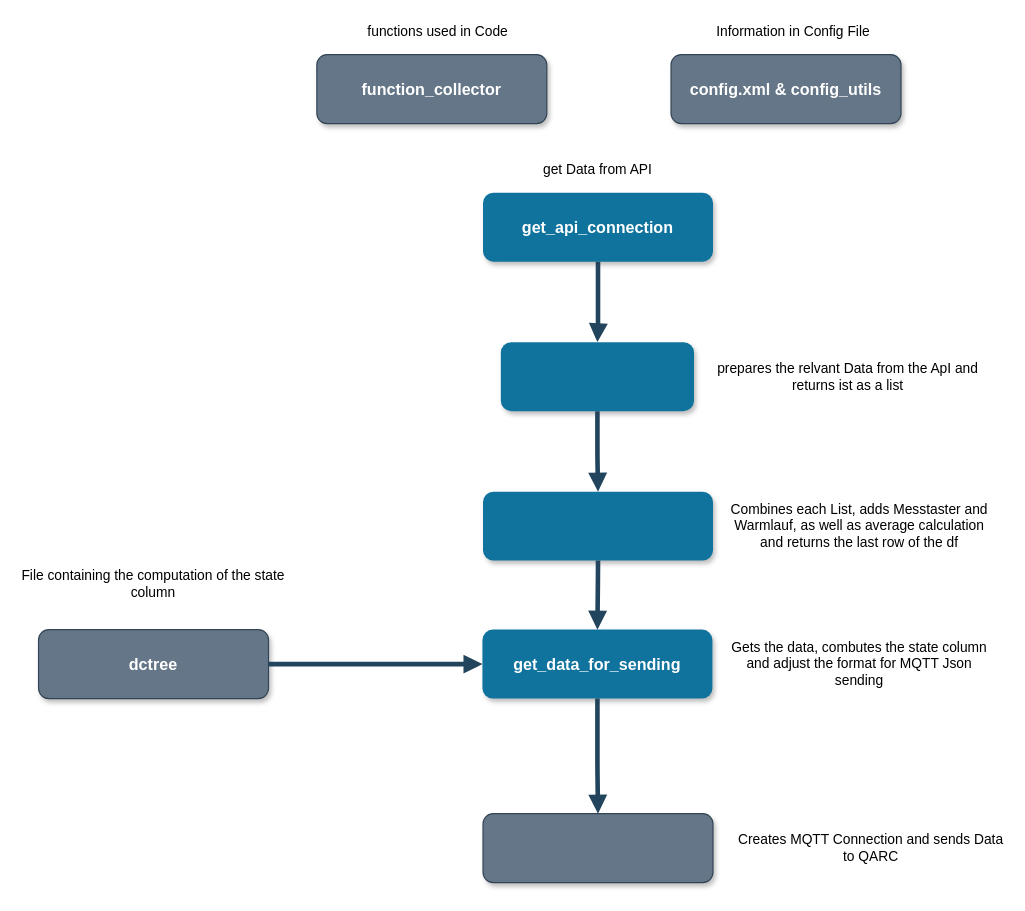
Some shapes in this 1025 by 911 pixel diagram are drawn without their labels. The centre of each missing label's shape, as x and y in pixels:
"combine_all_lists" goes at point 598,527.
"get_list" goes at point 598,378.
"send_data" goes at point 598,849.
